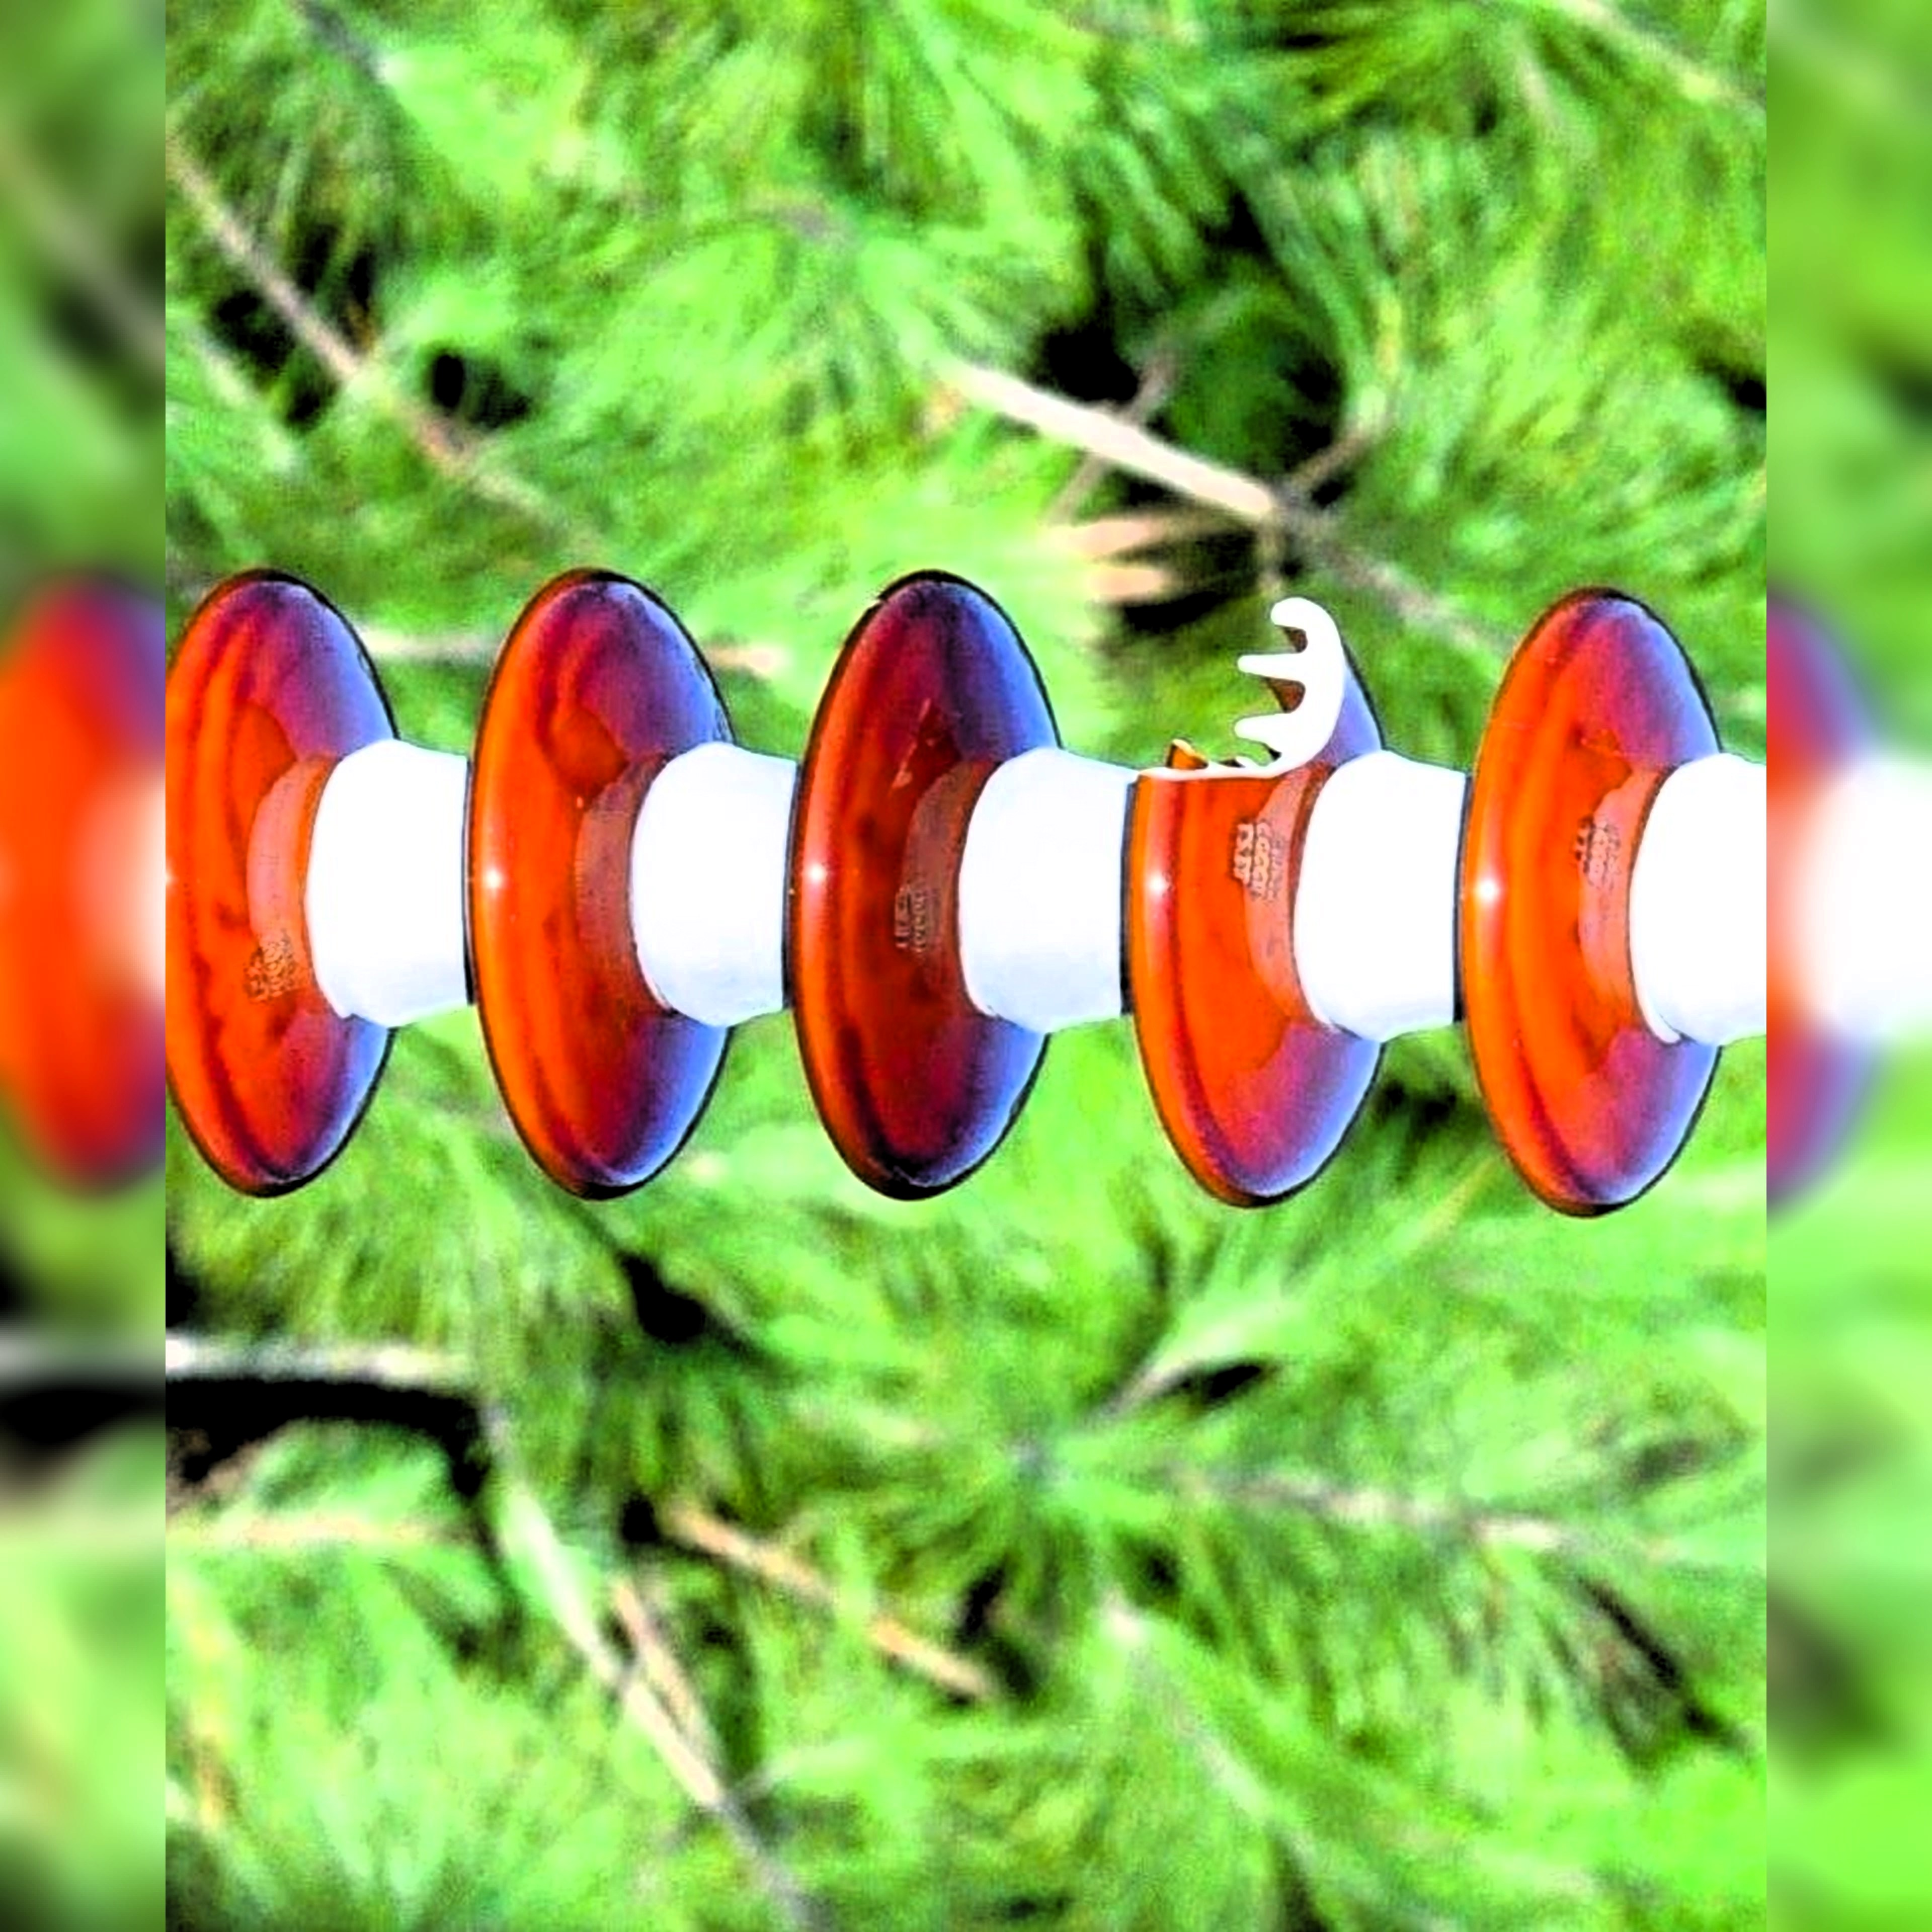insulator breakage: (1113, 575, 1394, 1253)
